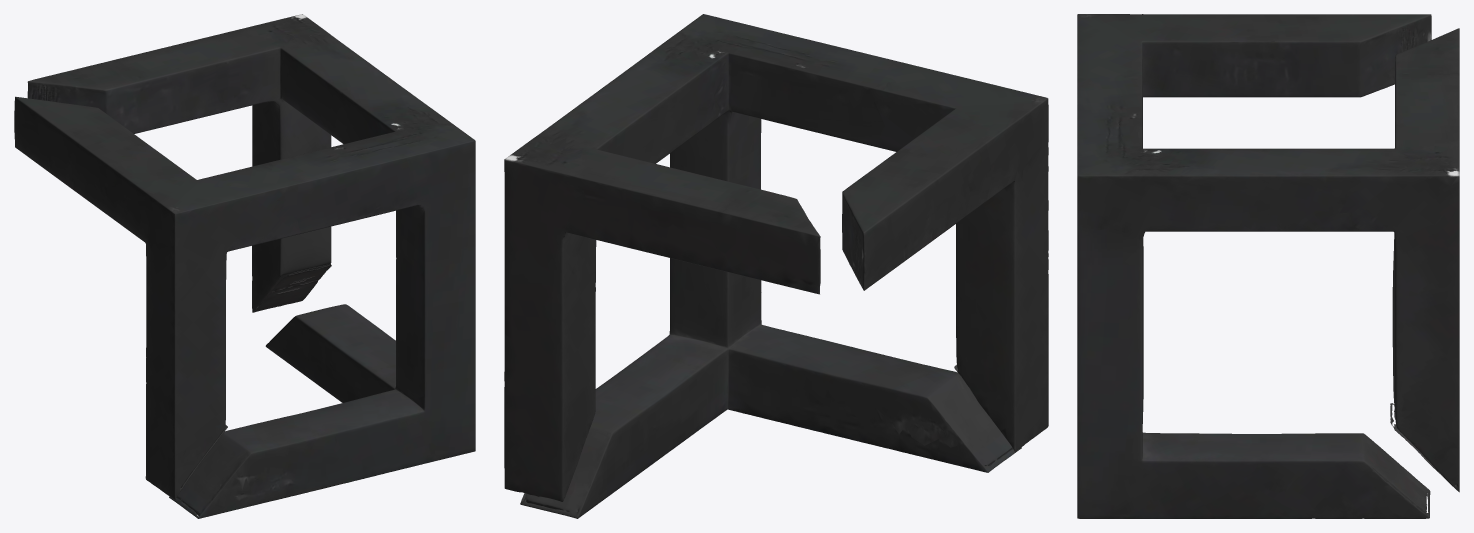
Rendered from web.glb.
3 renders of one model, left to right at view 1: azimuth 30°, elevation 25°; view 2: azimuth 150°, elevation 25°; view 3: azimuth 270°, elevation 25°, orthographic. The views are drawn at different scales.
Parts seen in each view (by area): view 1: model; view 2: model; view 3: model.
Boxes of the visible parts, x1=… form: model: x1=14, y1=14, x2=475, y2=518; model: x1=504, y1=14, x2=1048, y2=518; model: x1=1077, y1=14, x2=1459, y2=518.
Bounding box in the file's own units: 2 × 1.97 × 1.98.
1 material, 1 textured.
